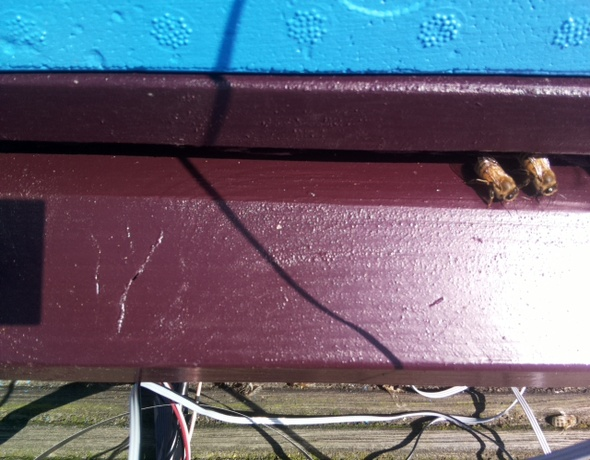no_pollen: (468, 154, 521, 206), (518, 150, 560, 199)
